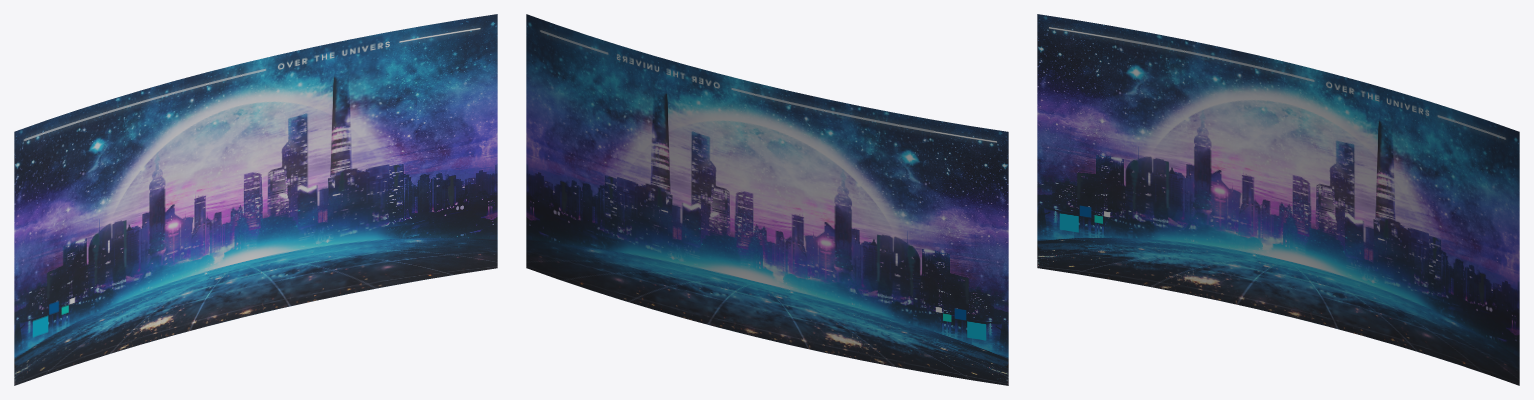
Rendered from MICE_Screen_Lecture_Sub_01.fbx.
The picture shows the model from 3 angles, left to right: view 1: azimuth 30°, elevation 25°; view 2: azimuth 150°, elevation 25°; view 3: azimuth 330°, elevation 25°; orthographic projection.
Parts seen in each view (by area): view 1: MICE_Screen_Lecture_Sub_01; view 2: MICE_Screen_Lecture_Sub_01; view 3: MICE_Screen_Lecture_Sub_01.
Part boxes in pixels (x1,y1,x2,y2): MICE_Screen_Lecture_Sub_01: (14, 14, 497, 385); MICE_Screen_Lecture_Sub_01: (526, 14, 1008, 385); MICE_Screen_Lecture_Sub_01: (1037, 14, 1519, 385).
Size of the model in its own units: 8.05 by 0.3827 by 4.05.
